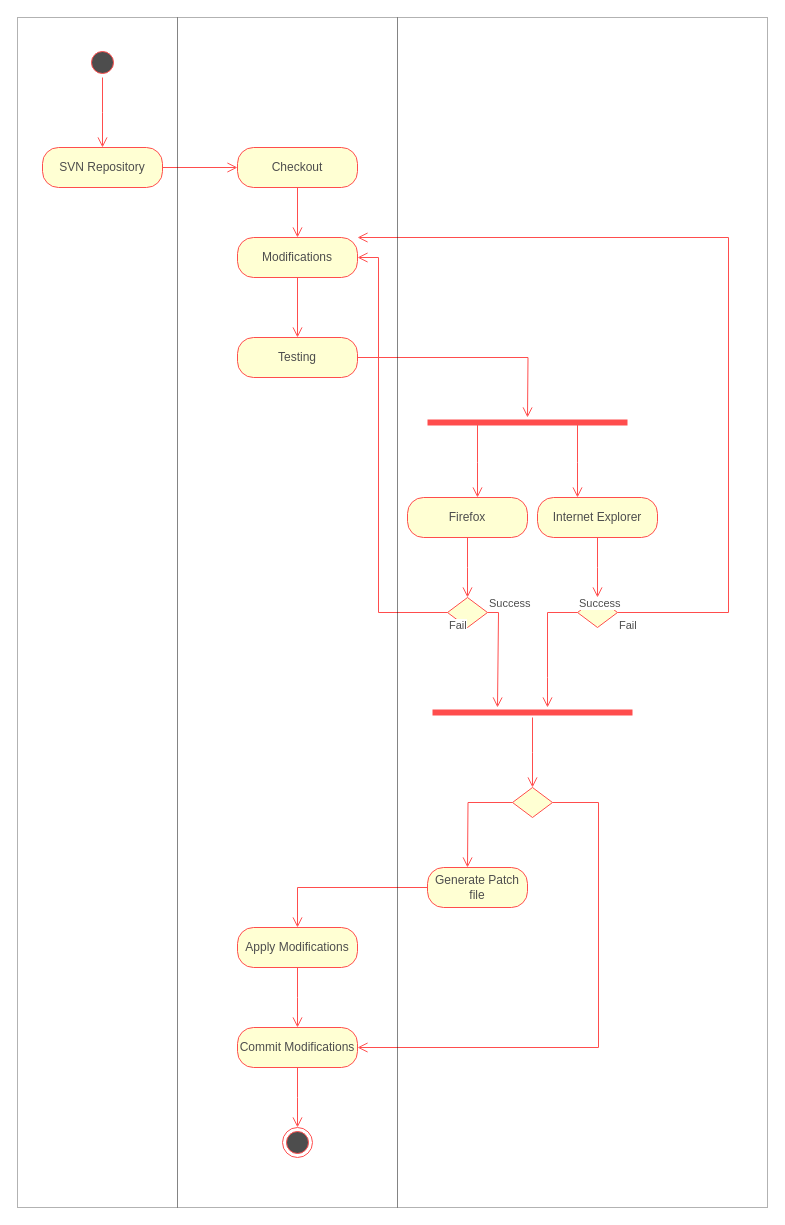
Some shapes in this 785 by 1225 pixel diagram are drawn without their labels. The centre of each missing label's shape, as x and y in pixels:
"Browser" belongs at (582,612).
"Developer" belongs at (287,612).
"Subversion Repository" belongs at (97,612).
